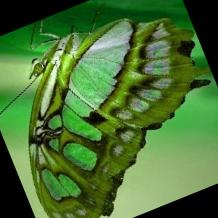butterfly: (28, 17, 211, 218)
